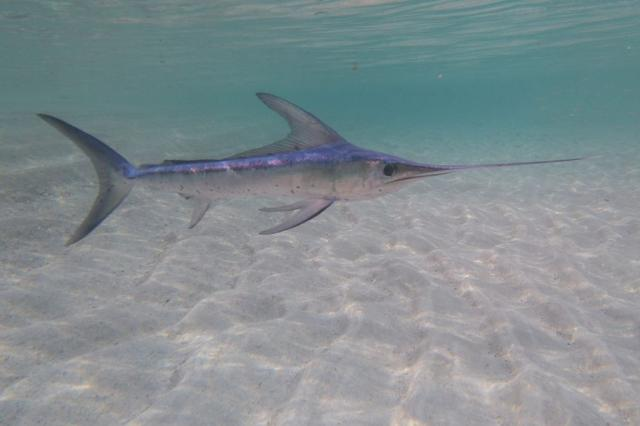Mulut: (372, 134, 602, 208)
Sirip Dada: (246, 182, 344, 246)
Sirip Ekor: (28, 104, 140, 262)
Sirip Perut: (170, 184, 238, 236)
Sirip Punggung: (159, 82, 355, 172)
